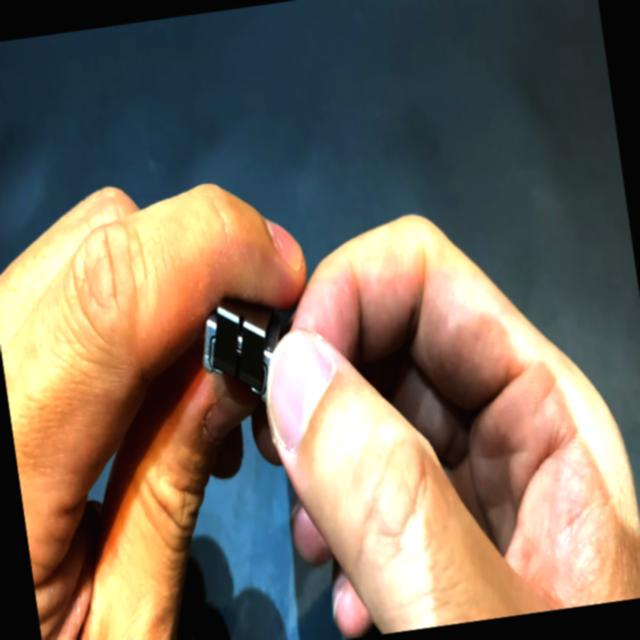cutter: (0, 111, 635, 640)
